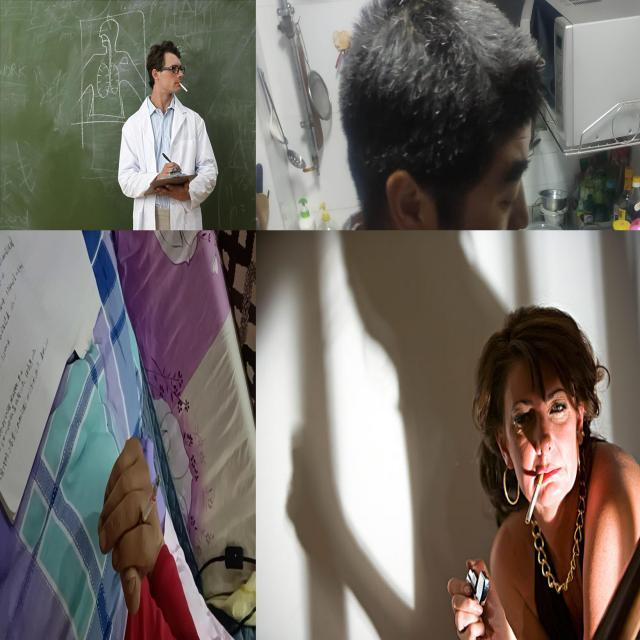cigarette: (136, 474, 160, 532), (524, 472, 544, 526), (178, 81, 188, 93)
